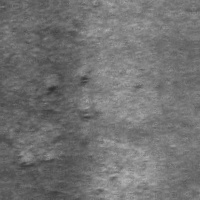rolled-in_scale: (1, 72, 99, 175)
